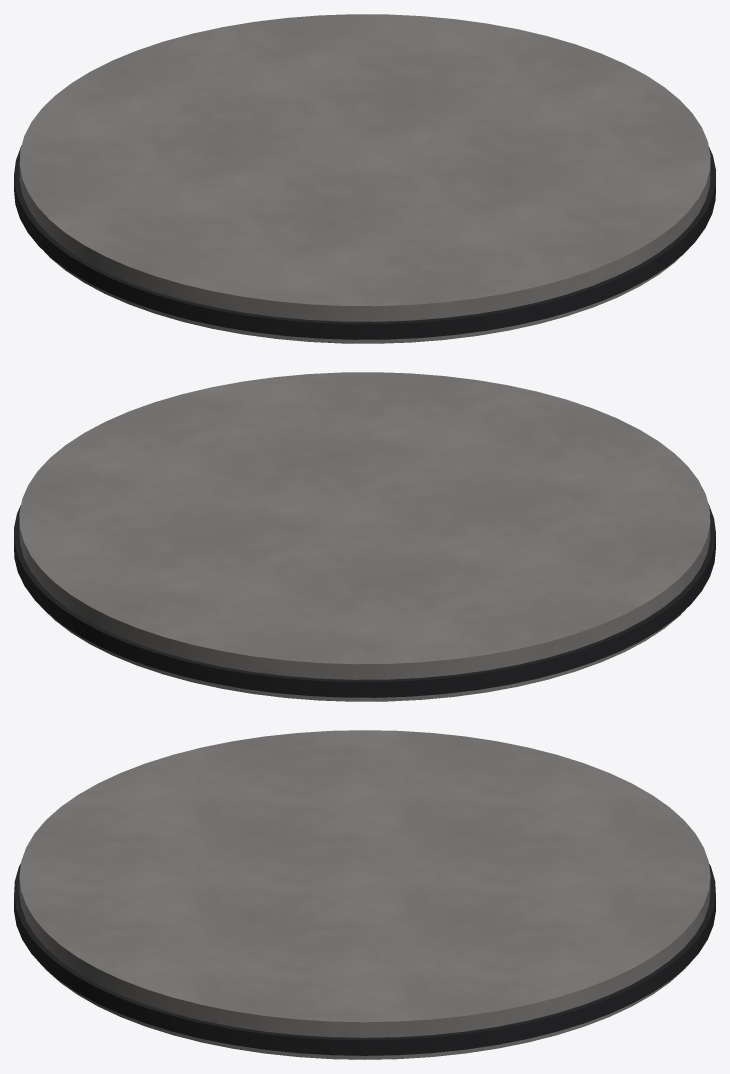
Rendered from stage05_heatshield_xl.glb.
3 views of the same model, one above another, from view 1: azimuth 30°, elevation 25°; view 2: azimuth 150°, elevation 25°; view 3: azimuth 270°, elevation 25° (orthographic).
Visible parts, largest first — view 1: carrier, shoulder_band; view 2: carrier, shoulder_band; view 3: carrier, shoulder_band.
Part boxes in pixels (x1,y1,x2,y2): carrier: [19, 14, 710, 343]; shoulder_band: [14, 145, 715, 339]; carrier: [19, 372, 710, 701]; shoulder_band: [14, 503, 715, 697]; carrier: [19, 730, 710, 1059]; shoulder_band: [14, 863, 715, 1055].
Bounding box in the file's own units: 5.08 × 0.8456 × 5.08.
Materials: 3 (2 with a texture image).
